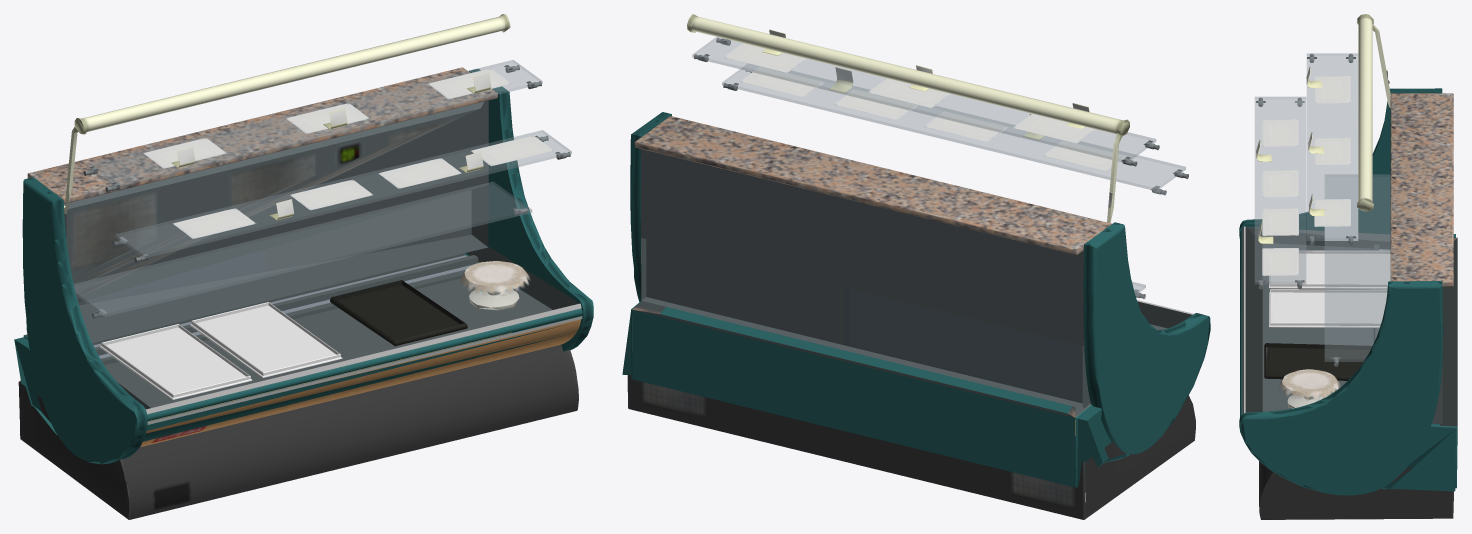
File: cafe_cake_display_optimised.glb
The picture shows the model from 3 angles, left to right: view 1: azimuth 30°, elevation 25°; view 2: azimuth 150°, elevation 25°; view 3: azimuth 270°, elevation 25°; orthographic projection. The views are drawn at different scales.
Visible parts, largest first — view 1: fridge_back, base, base_1, biottom_shelf, lh_end, counter, top_shelf, mid_shelf, light, rh_end, tray_1, tray (+11 smaller); view 2: fridge_back, base_1, base, counter, lh_end, top_shelf, mid_shelf, light, rh_end, doily_1, doily_1_3, doily_1_1 (+4 smaller); view 3: rh_end, base_1, counter, biottom_shelf, top_shelf, base, mid_shelf, tray_1, tray, light, lh_end, tray_2 (+11 smaller).
Part boxes in pixels (x1,y1,x2,y2): fridge_back: (64,100,488,342); base: (18,344,578,519); base_1: (14,246,582,446); biottom_shelf: (74,182,531,316); lh_end: (22,177,147,464); counter: (27,67,497,203); top_shelf: (86,60,542,187); mid_shelf: (115,130,571,257); light: (64,14,510,214); rh_end: (469,69,593,351); tray_1: (190,302,342,377); tray: (100,324,252,399); fridge_back: (641,149,1090,408); base_1: (622,300,1193,487); base: (627,375,1195,519); counter: (634,116,1112,254); lh_end: (1083,222,1210,454); top_shelf: (692,37,1155,163); mid_shelf: (722,64,1185,190); light: (687,14,1129,222); rh_end: (630,112,671,301); doily_1: (834,90,916,119); doily_1_3: (740,67,822,96); doily_1_1: (924,112,1006,141); rh_end: (1239,281,1443,495); base_1: (1242,226,1457,491); counter: (1390,93,1453,286); biottom_shelf: (1325,174,1390,361); top_shelf: (1307,53,1357,240); base: (1259,461,1453,519); mid_shelf: (1255,97,1305,283); tray_1: (1269,289,1387,327); tray: (1269,250,1390,289); light: (1357,14,1390,211); lh_end: (1239,88,1442,238); tray_2: (1264,343,1371,380).
Bounding box in the file's own units: 1.8 × 1.34 × 0.8383.
Materials: 1 (1 with a texture image).
